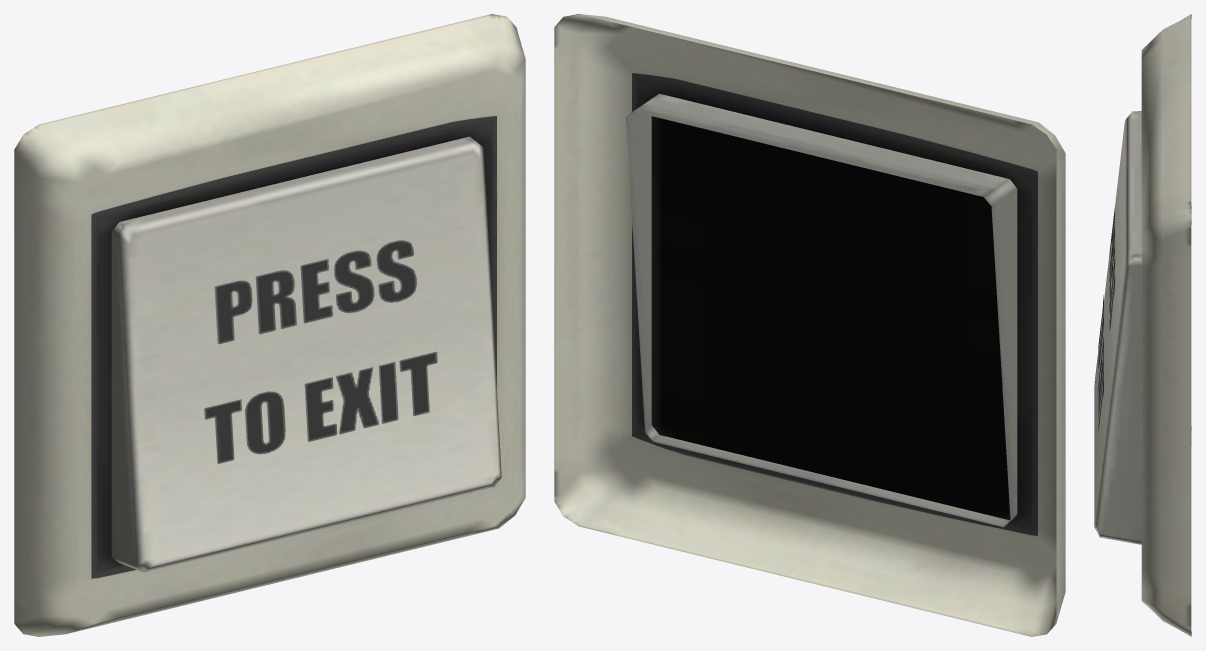
File: door_exit_button.dae
3 renders of one model, left to right at view 1: azimuth 30°, elevation 25°; view 2: azimuth 150°, elevation 25°; view 3: azimuth 270°, elevation 25°, orthographic. The views are drawn at different scales.
Visible parts, largest first — view 1: base, button, button_text; view 2: base, button; view 3: base, button, button_text.
Boxes of the visible parts, <box> form: base: <box>14,14,525,636</box>; button: <box>111,136,501,572</box>; button_text: <box>204,240,437,463</box>; base: <box>554,14,1065,636</box>; button: <box>626,93,1017,527</box>; base: <box>1141,14,1191,636</box>; button: <box>1094,111,1141,544</box>; button_text: <box>1098,207,1115,432</box>.
Size of the model in its own units: 0.1269 by 0.1238 by 0.0252.
